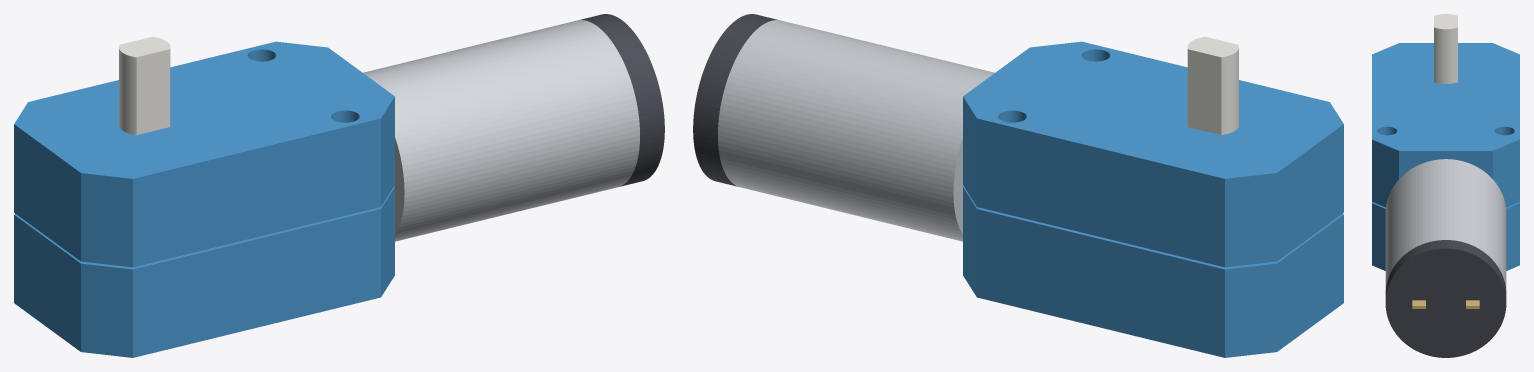
The model's file is model_full.glb.
3 renders of one model, left to right at view 1: azimuth 30°, elevation 25°; view 2: azimuth 150°, elevation 25°; view 3: azimuth 270°, elevation 25°, orthographic. The views are drawn at different scales.
Parts seen in each view (by area): view 1: housing_half_1, motor_can, housing_half_0, output_shaft, motor_end_cap; view 2: housing_half_1, motor_can, housing_half_0, output_shaft, motor_end_cap; view 3: housing_half_1, motor_end_cap, motor_can, housing_half_0, output_shaft.
Boxes of the visible parts, x1,y1,x2,y2 form: housing_half_1: (14, 41, 394, 267); motor_can: (363, 20, 639, 241); housing_half_0: (14, 186, 394, 357); output_shaft: (119, 36, 170, 135); motor_end_cap: (580, 14, 664, 186); housing_half_1: (963, 41, 1343, 267); motor_can: (718, 20, 994, 241); housing_half_0: (963, 186, 1343, 357); output_shaft: (1187, 36, 1238, 135); motor_end_cap: (693, 14, 777, 186); housing_half_1: (1372, 43, 1519, 207); motor_end_cap: (1385, 240, 1506, 357); motor_can: (1385, 159, 1506, 289); housing_half_0: (1372, 202, 1519, 270); output_shaft: (1434, 14, 1457, 83).
Bounding box in the file's own units: 0.0715 × 0.0297 × 0.022.
